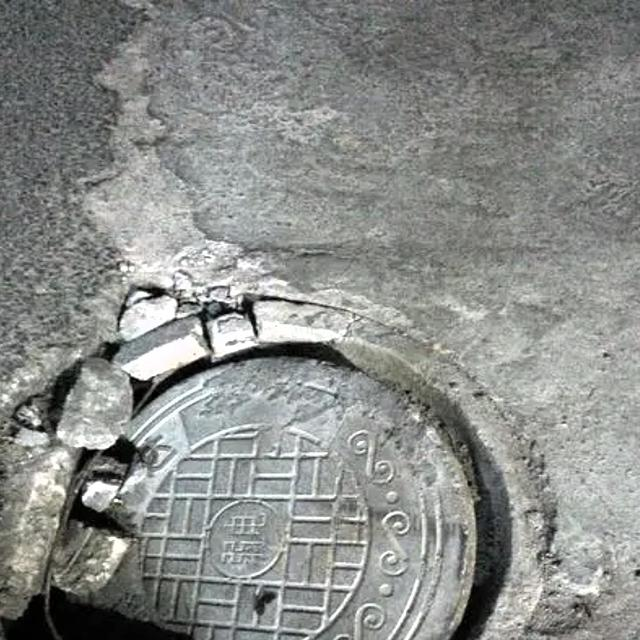circle: (0, 294, 574, 640)
